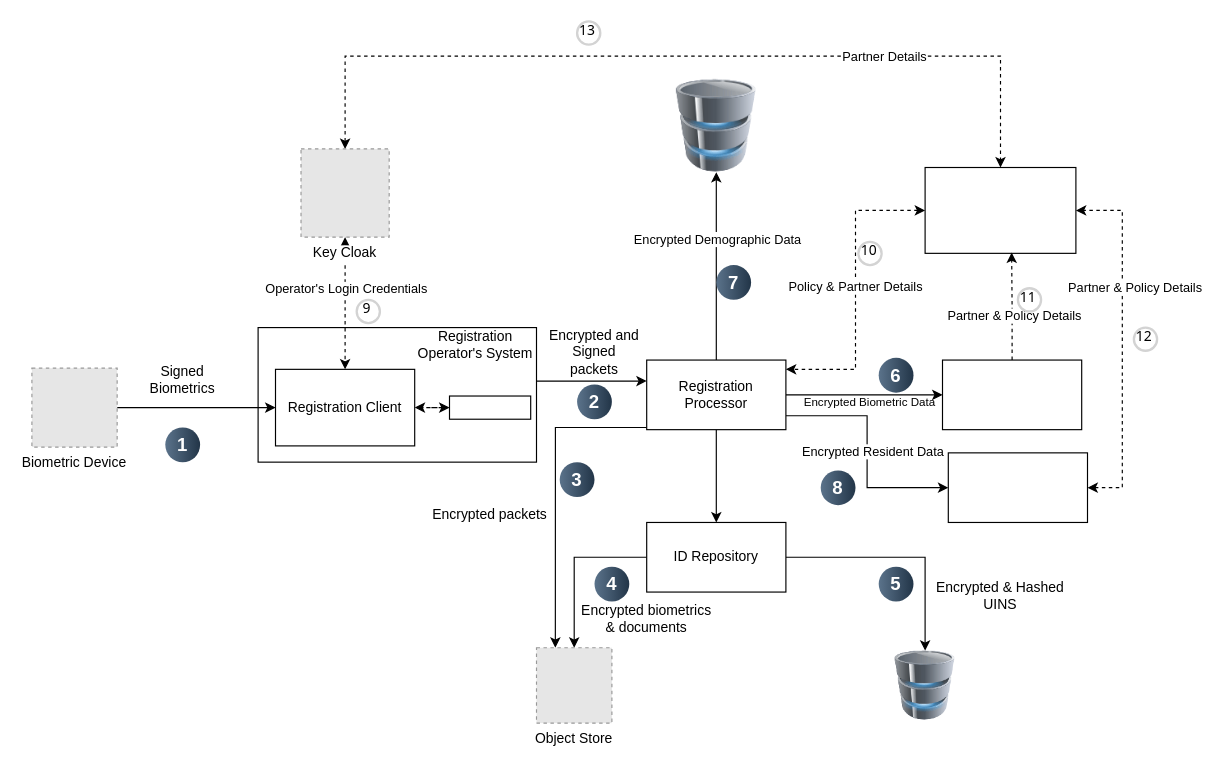
This 1221x767 diagram has some shape labels left out. Grey dashed boxes stand in for pictures. The centre of each missing label's shape, as x and y in pixels:
ABIS: the point at 1011,394
Credential Requestors/ Printers: the point at 1017,487
Patner/ Policy Management System: the point at 1000,209
PostGres DB: the point at 924,685
Registraion Processor DB: the point at 715,125
TPM: the point at 489,407
